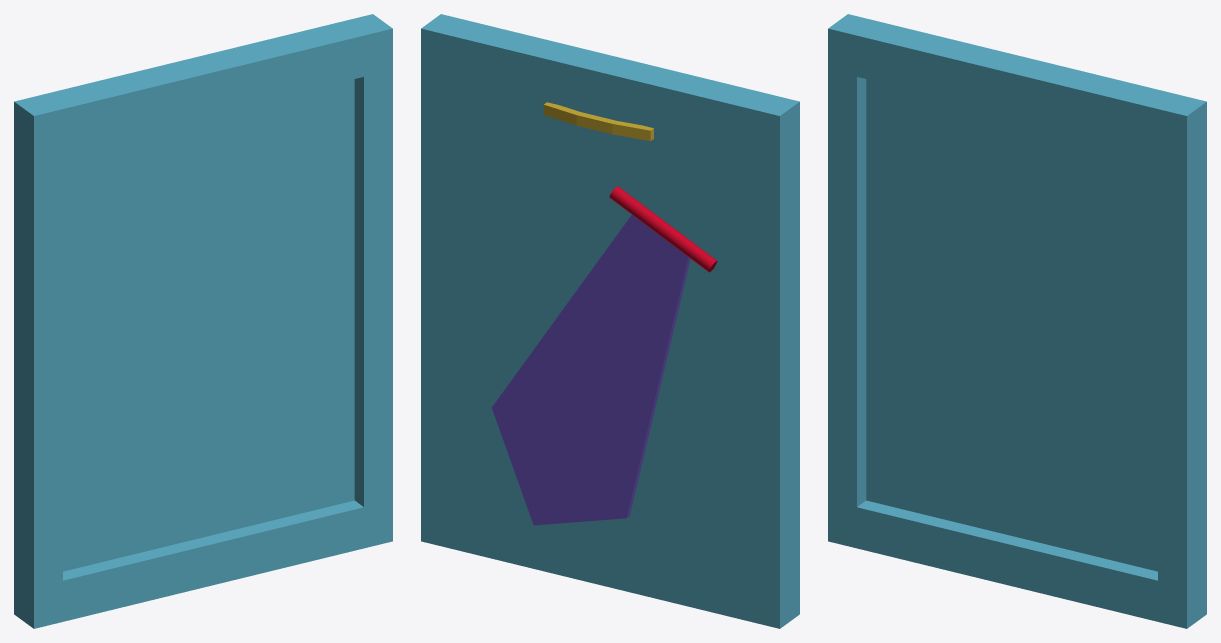
The model's file is VerticalFrame.fbx.
3 renders of one model, left to right at view 1: azimuth 30°, elevation 25°; view 2: azimuth 150°, elevation 25°; view 3: azimuth 330°, elevation 25°, orthographic.
Parts seen in each view (by area): view 1: Cube.003; view 2: Cube.003, Cube.004, Cylinder.001, Cube.005; view 3: Cube.003.
Part boxes in pixels (bbox=[...]): Cube.003: bbox=[14, 14, 392, 628]; Cube.003: bbox=[421, 14, 799, 628]; Cube.004: bbox=[491, 215, 690, 525]; Cylinder.001: bbox=[609, 186, 717, 272]; Cube.005: bbox=[543, 102, 653, 141]; Cube.003: bbox=[828, 14, 1206, 628].
Bounding box in the file's own units: 57.68 × 78.76 × 7.46.
